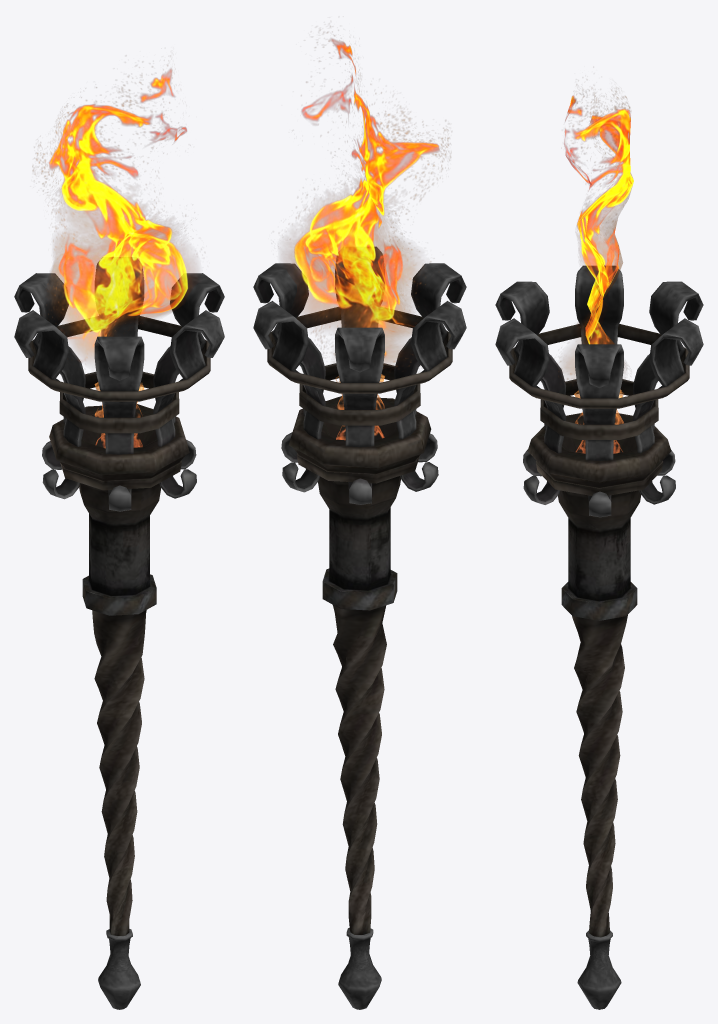
File: Muspelheim_Manor_Torch.glb
The picture shows the model from 3 angles, left to right: view 1: azimuth 30°, elevation 25°; view 2: azimuth 150°, elevation 25°; view 3: azimuth 270°, elevation 25°; orthographic projection. The views are drawn at different scales.
Parts seen in each view (by area): view 1: Object_8, Object_6; view 2: Object_8, Object_6; view 3: Object_8, Object_6.
Boxes of the visible parts, x1=… form: Object_8: x1=14, y1=257, x2=224, y2=1009; Object_6: x1=32, y1=65, x2=196, y2=414; Object_8: x1=253, y1=246, x2=466, y2=1009; Object_6: x1=283, y1=26, x2=450, y2=369; Object_8: x1=495, y1=265, x2=703, y2=1009; Object_6: x1=557, y1=90, x2=633, y2=385.
Bounding box in the file's own units: 19.22 × 88.87 × 17.6.
Materials: 3 (3 with a texture image).
